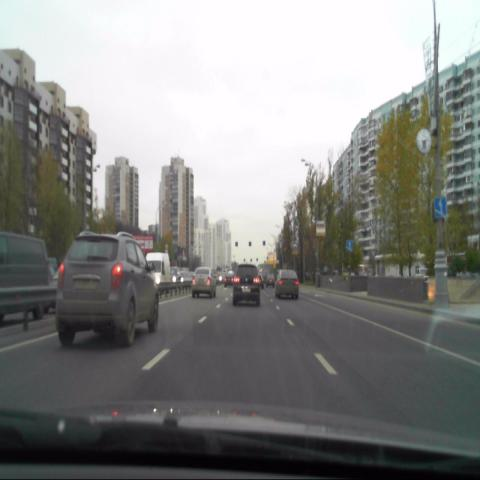6_6: (434, 197, 447, 218)
